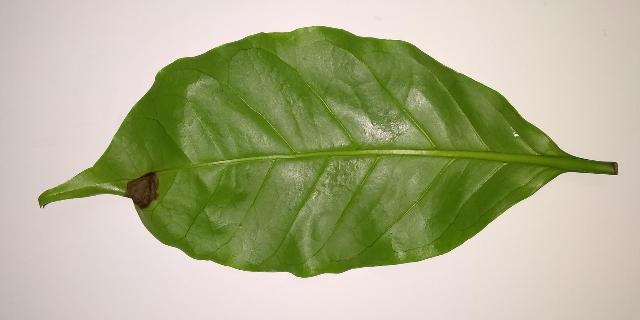rust: (119, 172, 159, 210)
